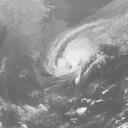cyclone: (44, 35, 92, 82)
